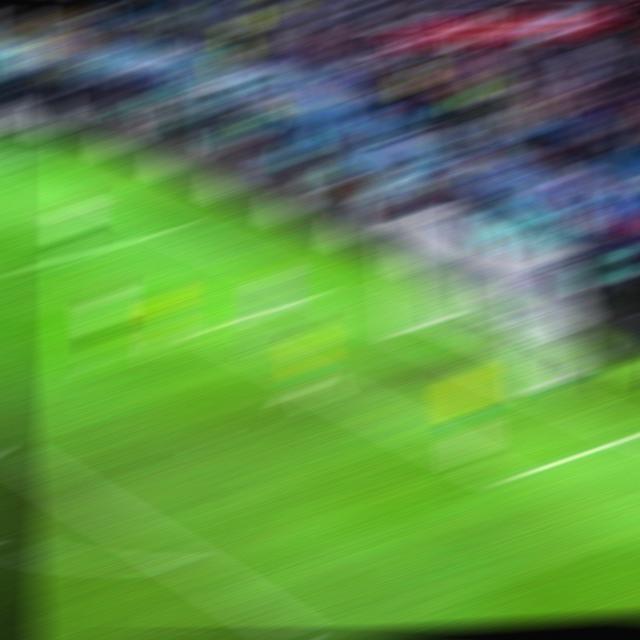bigarea_top_outter: (158, 227, 189, 233)
bottom_arc_area_intersection: (164, 553, 202, 574)
corner: (0, 154, 35, 162)
smallarea_bottom_inner: (491, 470, 528, 489)
smallarea_bottom_outter: (617, 428, 640, 442)
smallarea_top_inner: (188, 323, 227, 336)
smallarea_top_outter: (304, 288, 335, 300)
